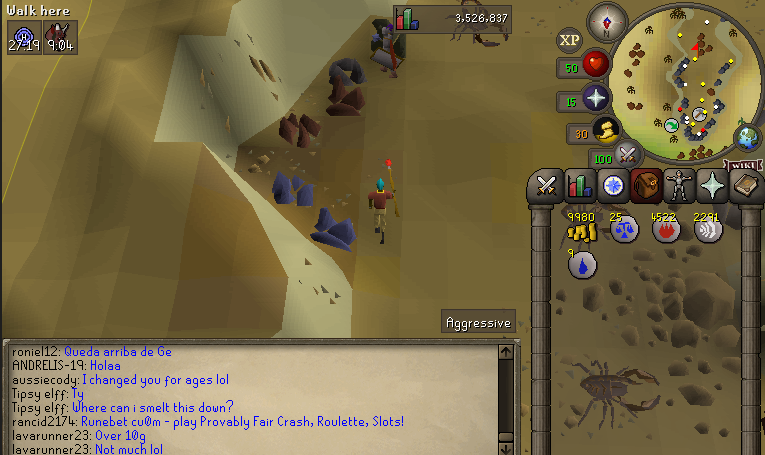depleted: (324, 54, 368, 84)
iron: (275, 110, 326, 152), (322, 77, 368, 121)
